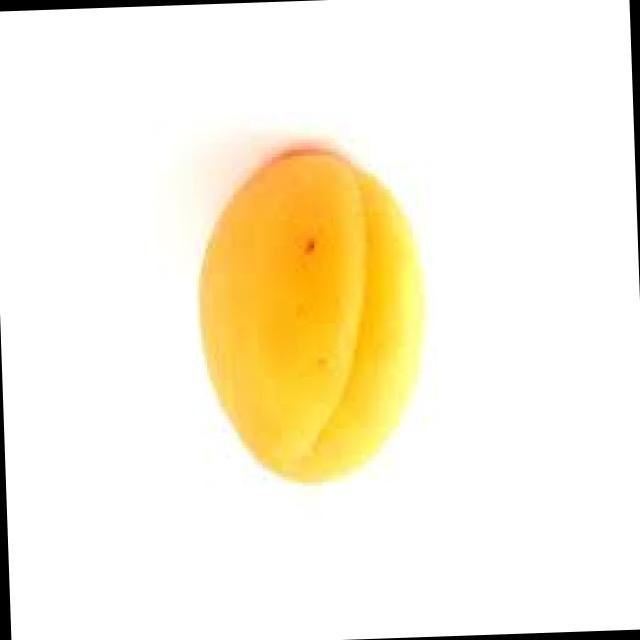Apricot: (163, 114, 460, 534)
